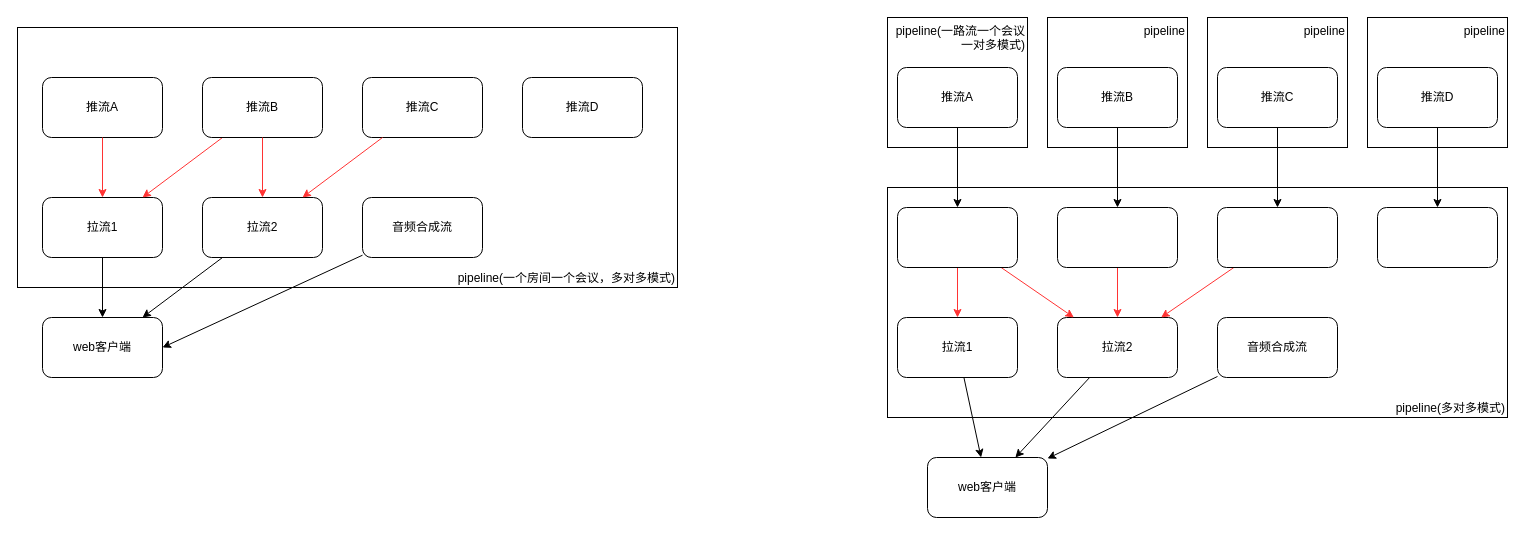
This 1525x535 diagram has some shape labels left out. Each missing label, with the centre of its shape:
推流1: the point at 957,237
推流2: the point at 1117,237
推流3: the point at 1277,237
推流4: the point at 1437,237
